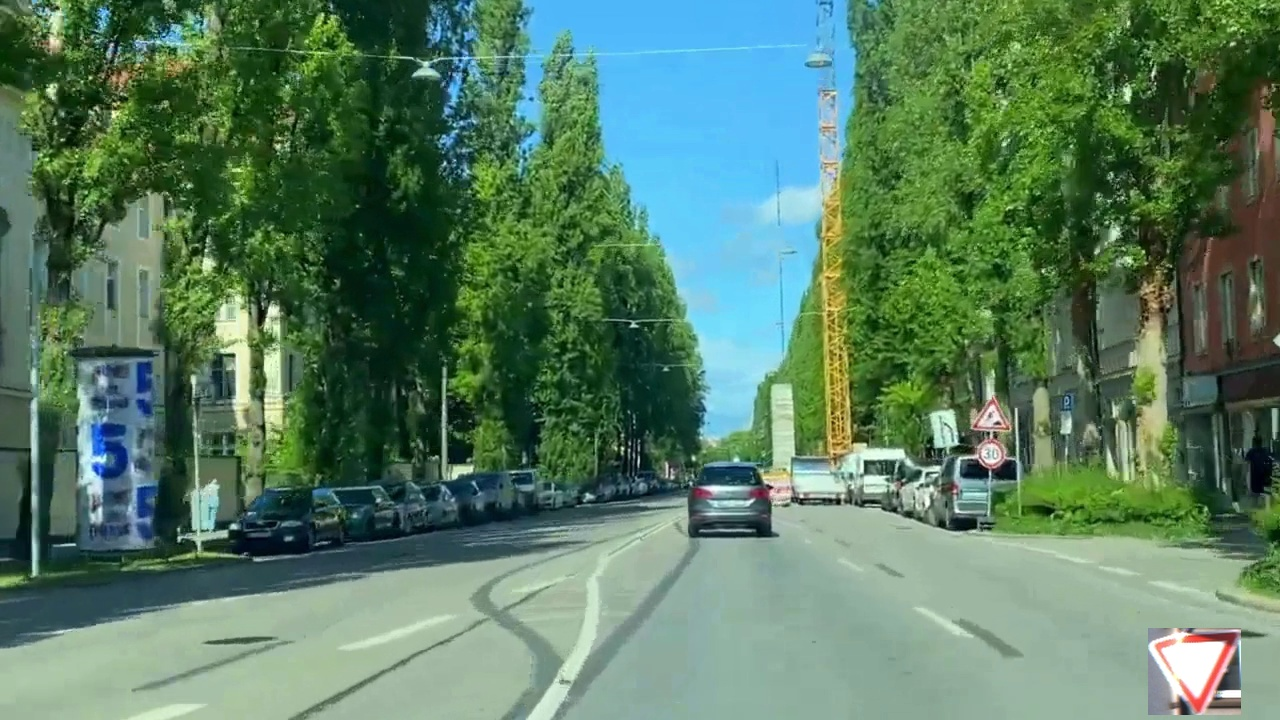Yield: (1148, 628, 1241, 715)
